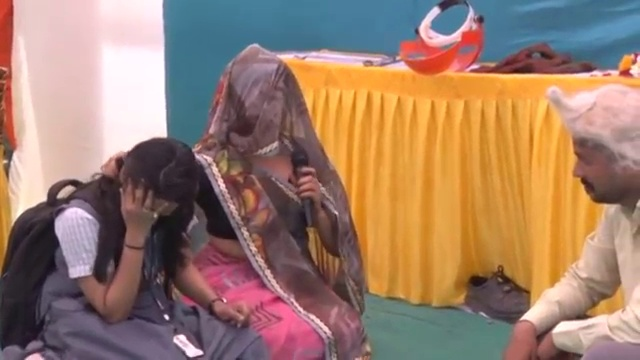helmet_off: (549, 90, 640, 212), (216, 50, 305, 160), (119, 142, 194, 220)
person: (1, 141, 271, 358), (184, 54, 368, 353), (511, 90, 640, 359)
